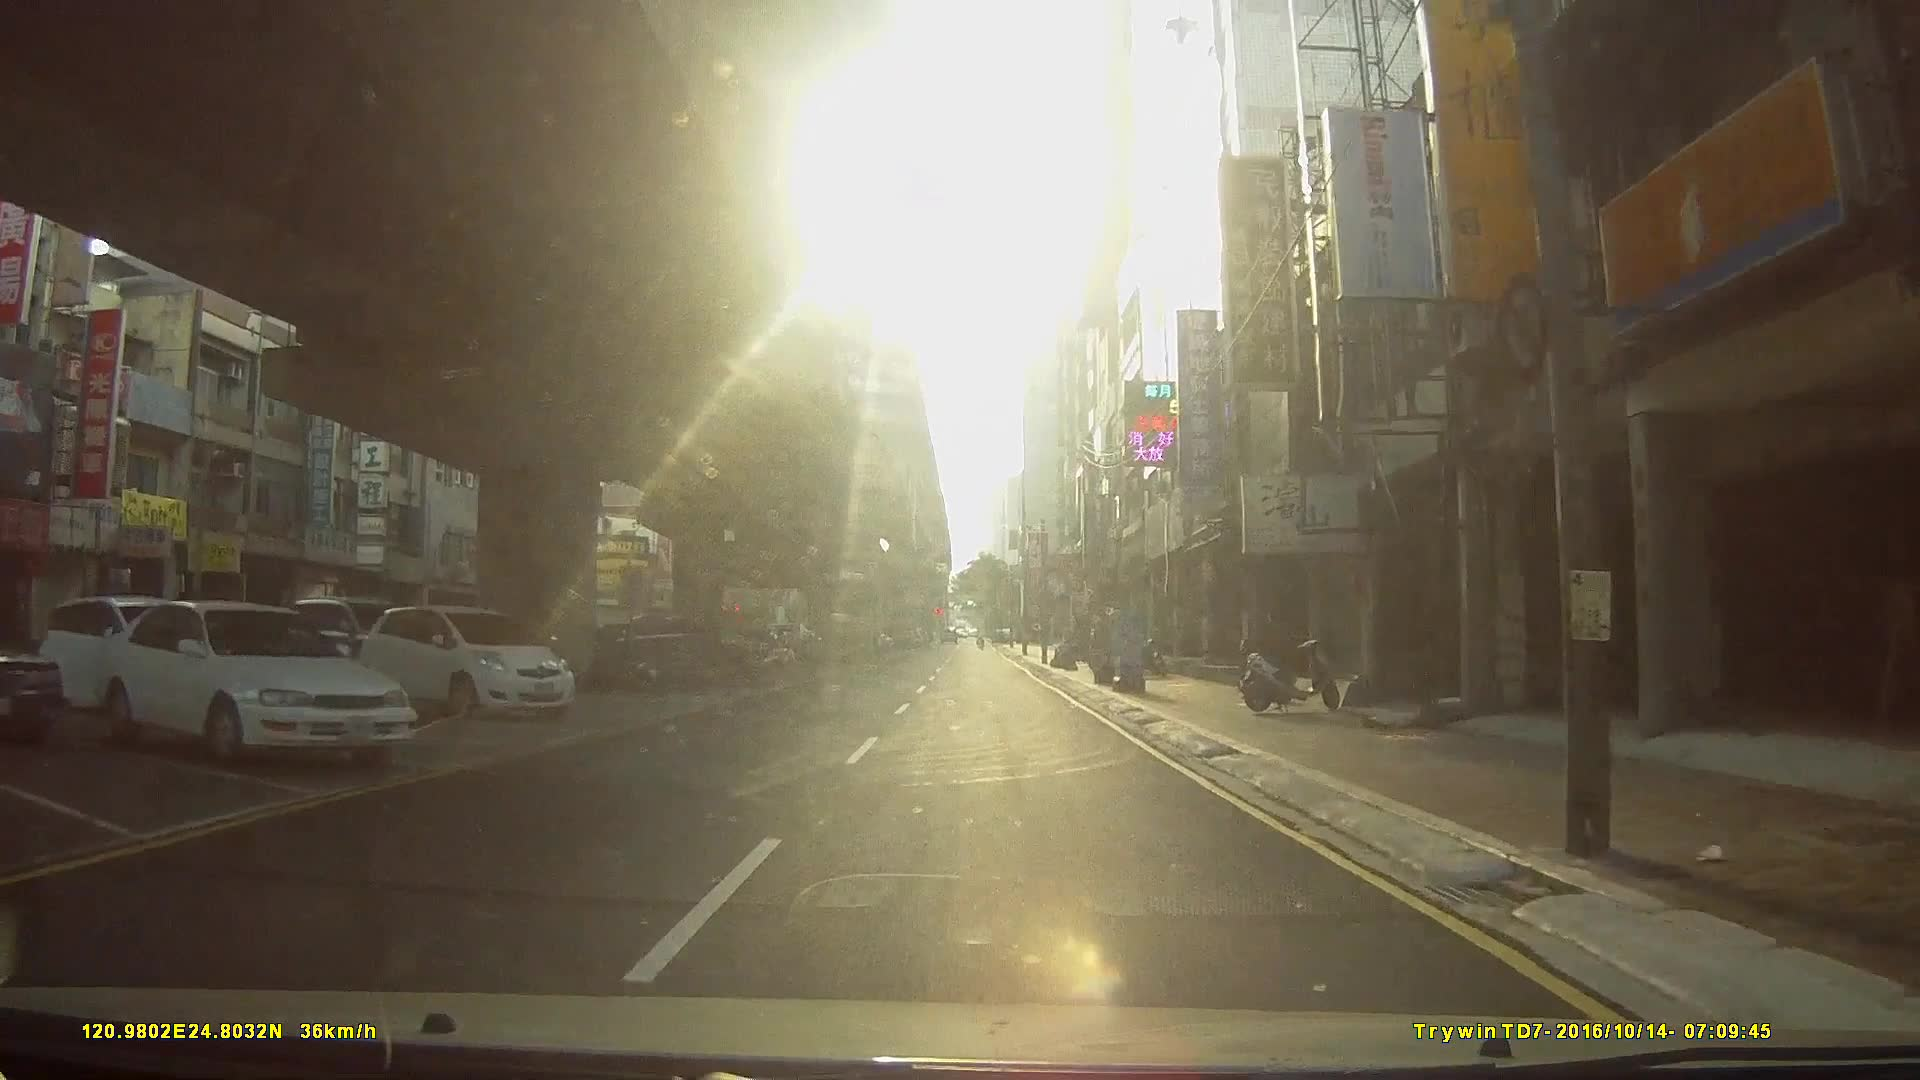vehicle: (94, 601, 415, 771), (357, 603, 579, 719), (32, 597, 206, 713), (0, 632, 65, 745)
